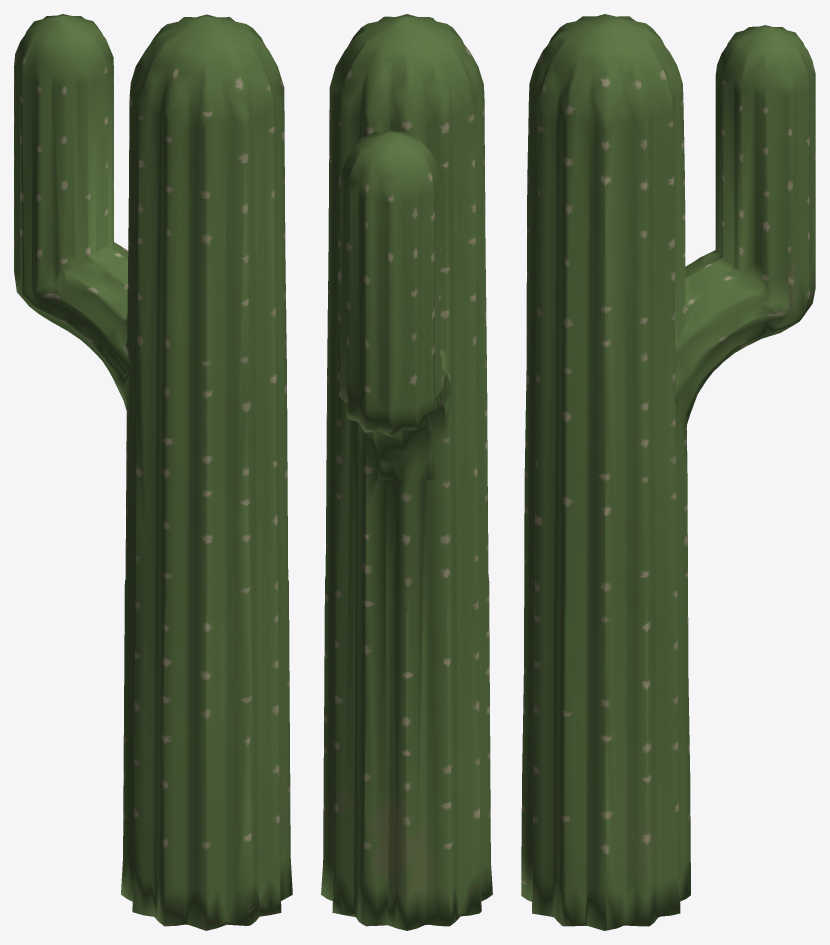
Rendered from frontier-yard-loft.glb.
The picture shows the model from 3 angles, left to right: view 1: azimuth 30°, elevation 25°; view 2: azimuth 150°, elevation 25°; view 3: azimuth 270°, elevation 25°; orthographic projection.
Parts seen in each view (by area): view 1: cactus-yard-loft; view 2: cactus-yard-loft; view 3: cactus-yard-loft.
Part boxes in pixels (<box>): cactus-yard-loft: <box>14,14,292,930</box>; cactus-yard-loft: <box>321,14,492,930</box>; cactus-yard-loft: <box>521,14,815,930</box>.
Size of the model in its own units: 0.4128 by 1.92 by 0.5824.
1 material, 1 textured.
